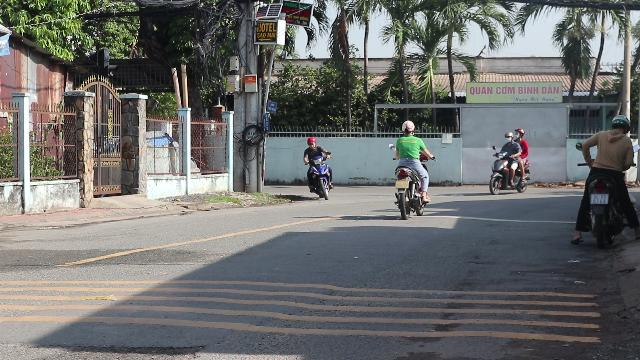helmet: (609, 114, 629, 134), (401, 121, 415, 136)
licenseplate: (590, 193, 608, 203), (396, 180, 408, 188)
motorcyclist: (572, 114, 638, 246), (389, 119, 431, 217)
